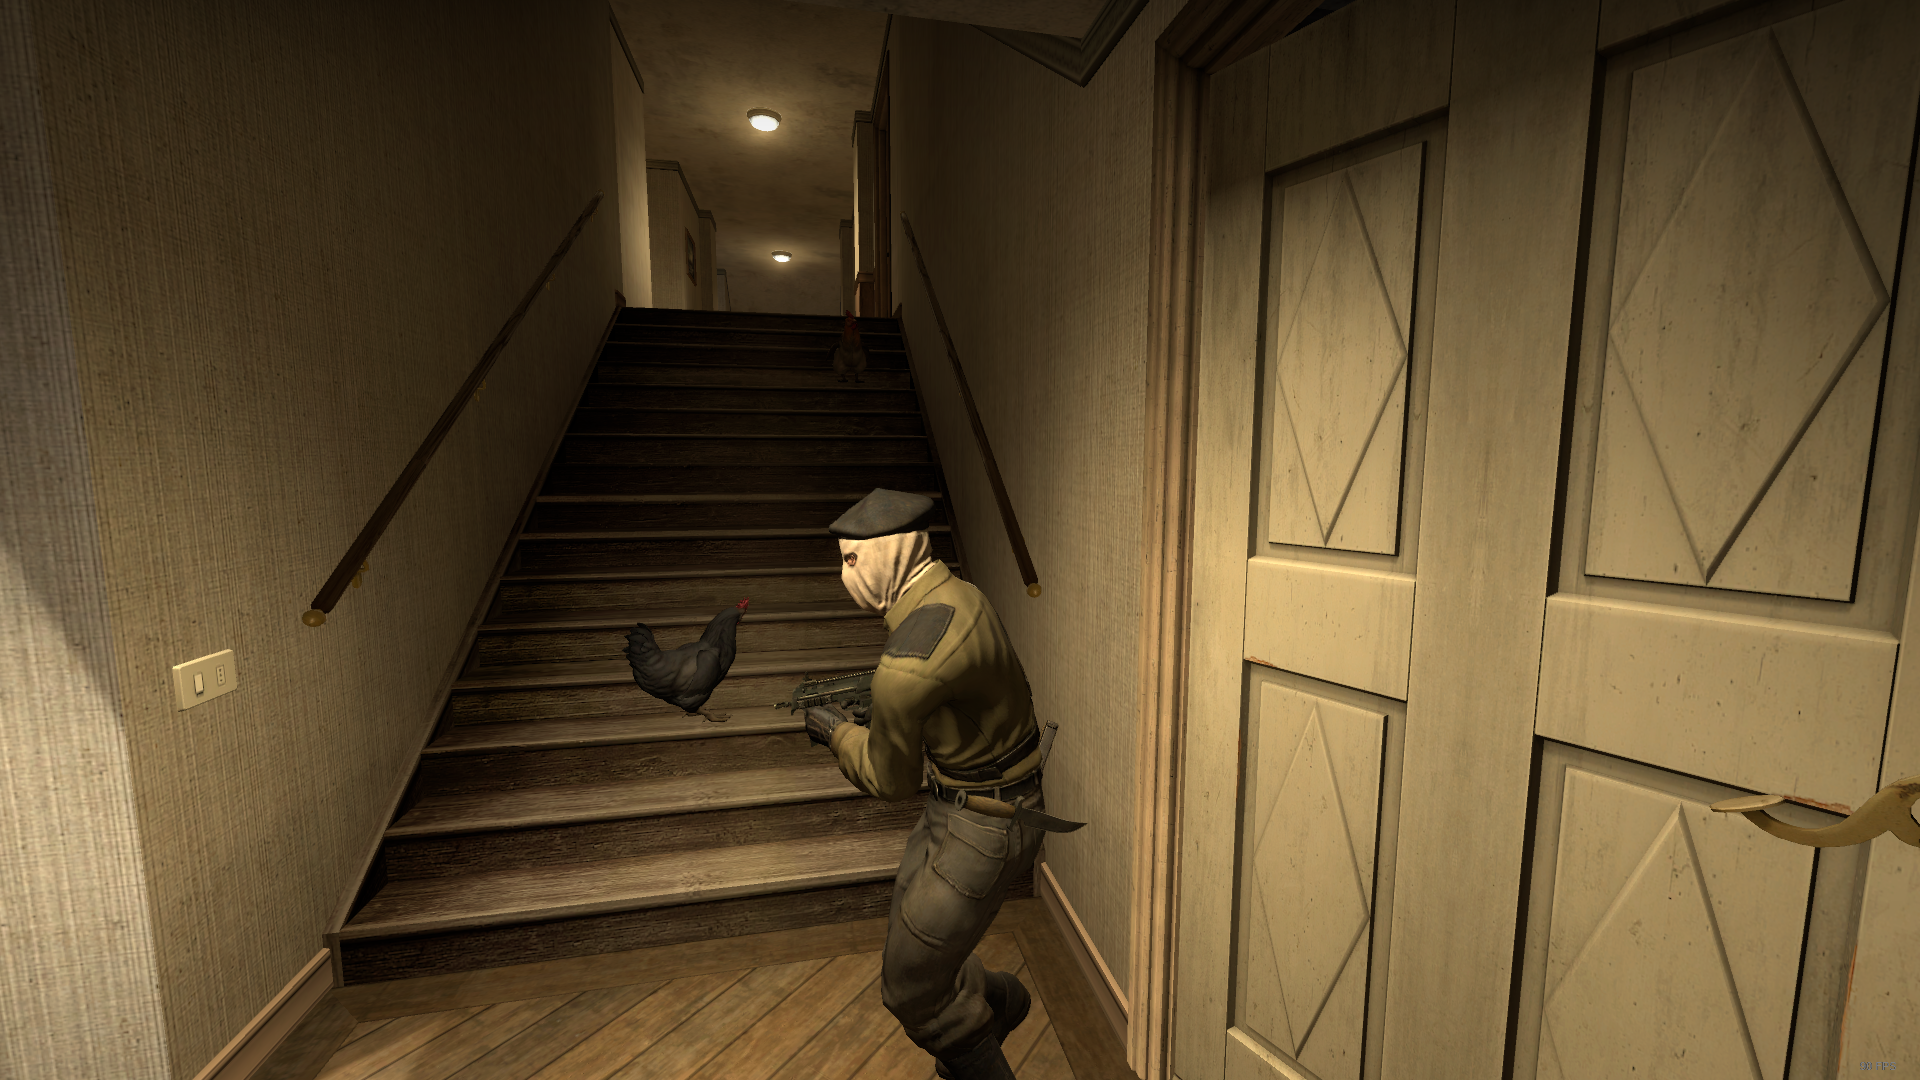t: (793, 483, 1098, 1080)
